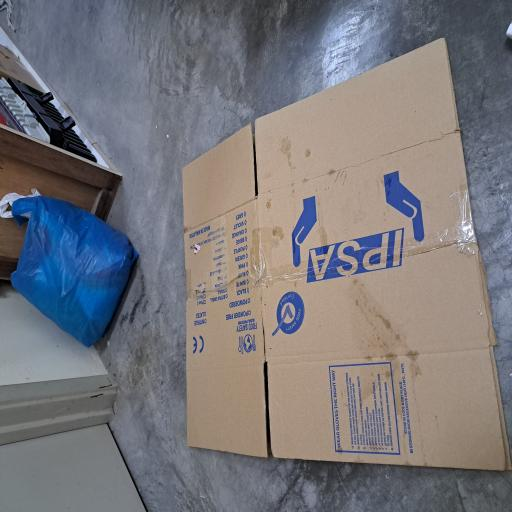cardboard: (32, 244, 355, 512)
plastic bag: (128, 15, 238, 184)
